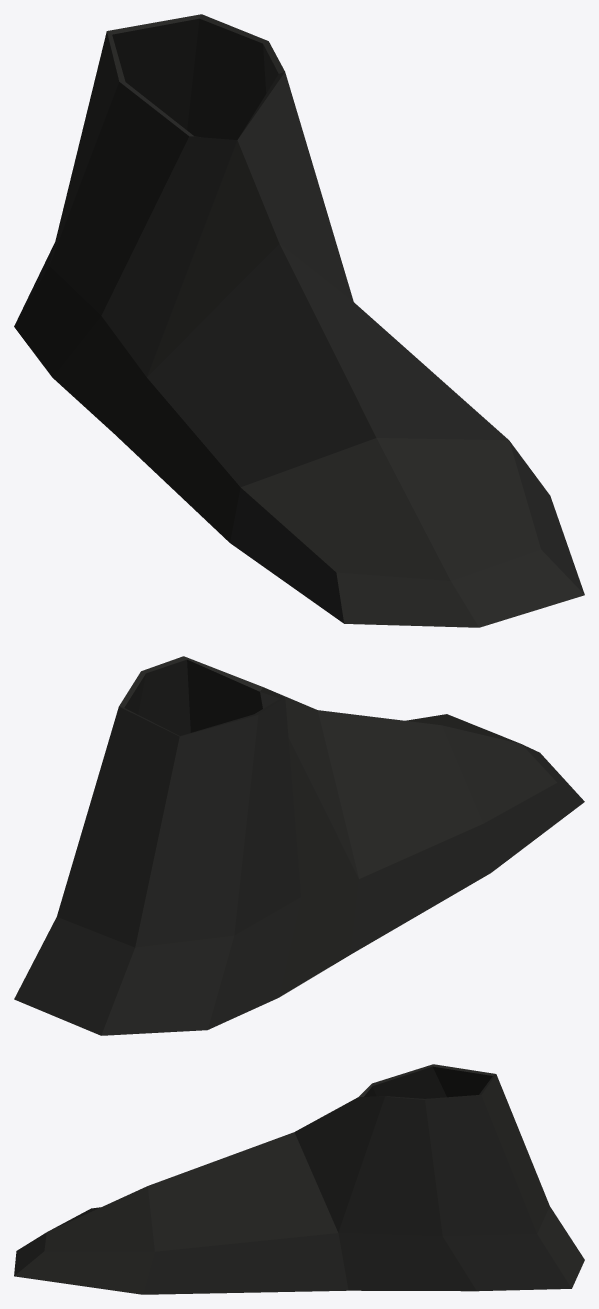
File: SabatonRight_01.fbx
3 renders of one model, top to bottom at view 1: azimuth 30°, elevation 25°; view 2: azimuth 150°, elevation 25°; view 3: azimuth 270°, elevation 25°, orthographic. The views are drawn at different scales.
Parts seen in each view (by area): view 1: SabatonRight_01; view 2: SabatonRight_01; view 3: SabatonRight_01.
Part boxes in pixels (bbox=[...]): SabatonRight_01: bbox=[14, 14, 584, 627]; SabatonRight_01: bbox=[14, 656, 584, 1035]; SabatonRight_01: bbox=[14, 1064, 584, 1294].
Bounding box in the file's own units: 9.24 × 10.21 × 27.73.
